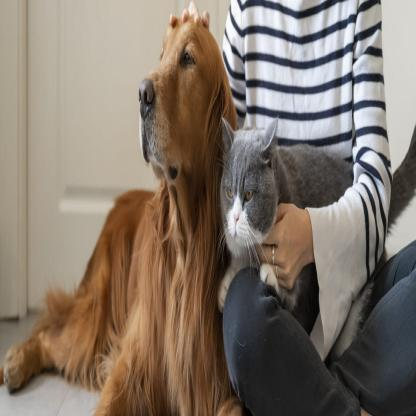cat: (211, 121, 307, 290)
dog: (125, 10, 230, 214)
